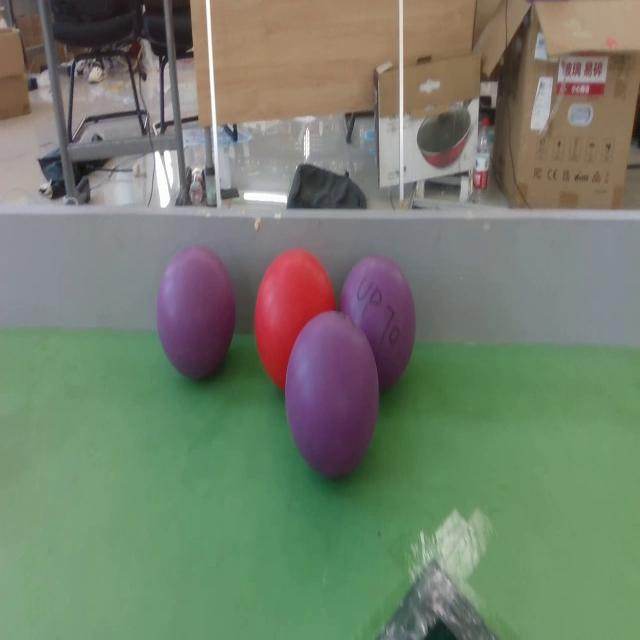invalid: (284, 310, 381, 484), (340, 254, 416, 391), (158, 250, 236, 372)
red: (255, 248, 337, 387)
